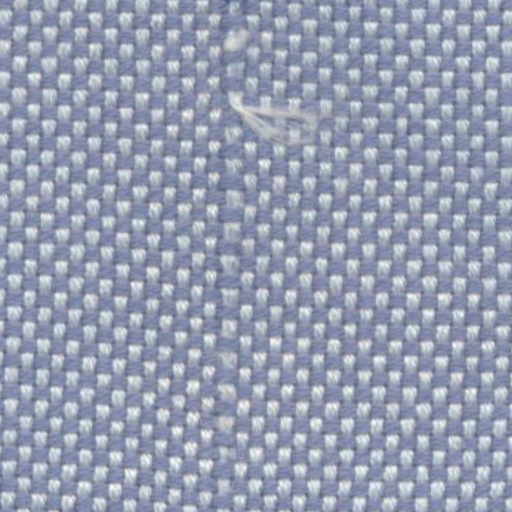DuanSha: (208, 79, 332, 151)
